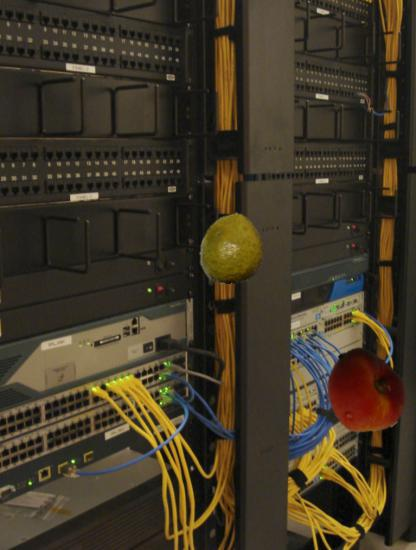Guava: (196, 212, 268, 284)
Nectarine: (320, 348, 409, 437)
